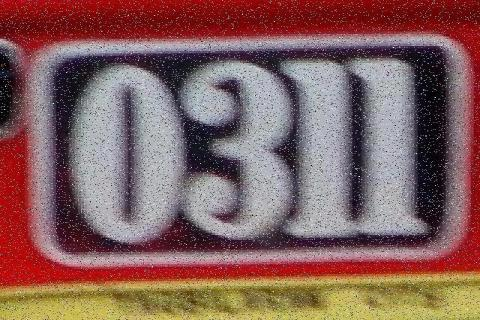LicensePlate: (29, 35, 476, 267)
